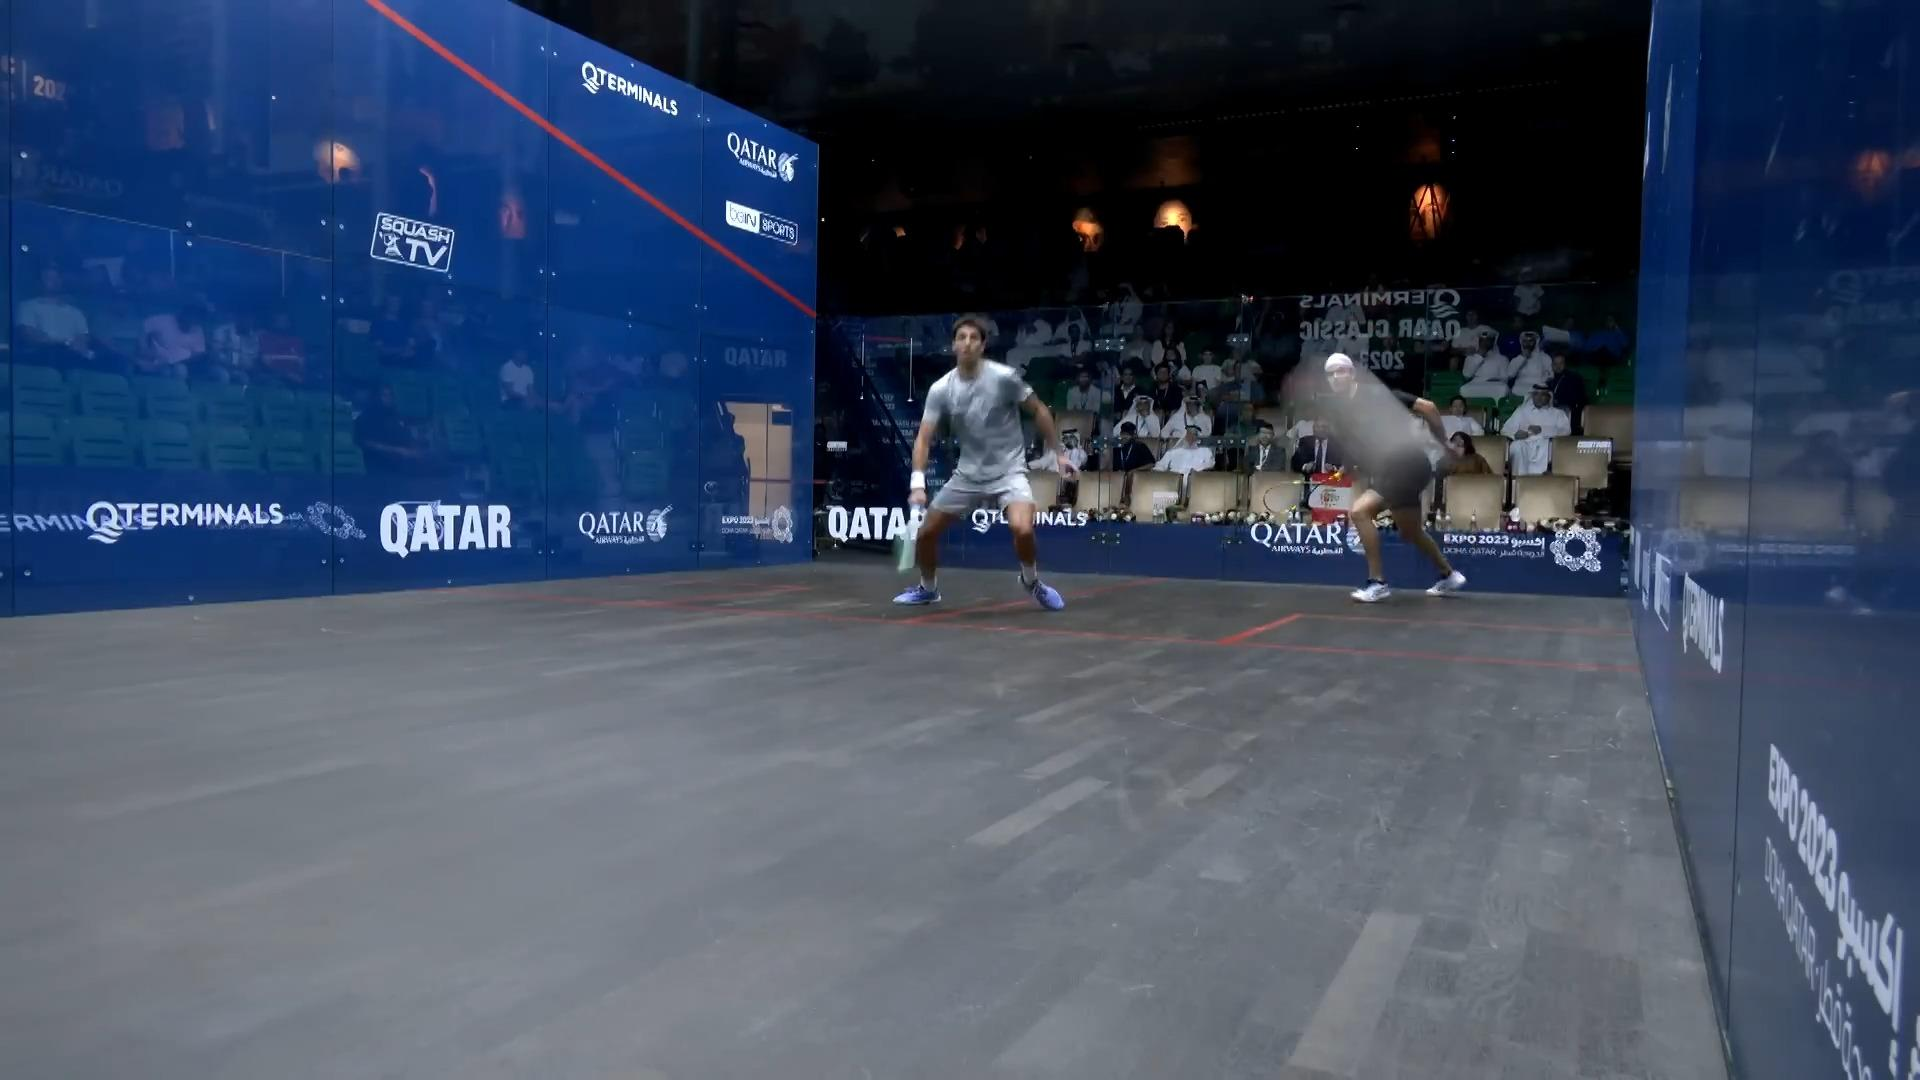Racket: (1258, 471, 1329, 518)
